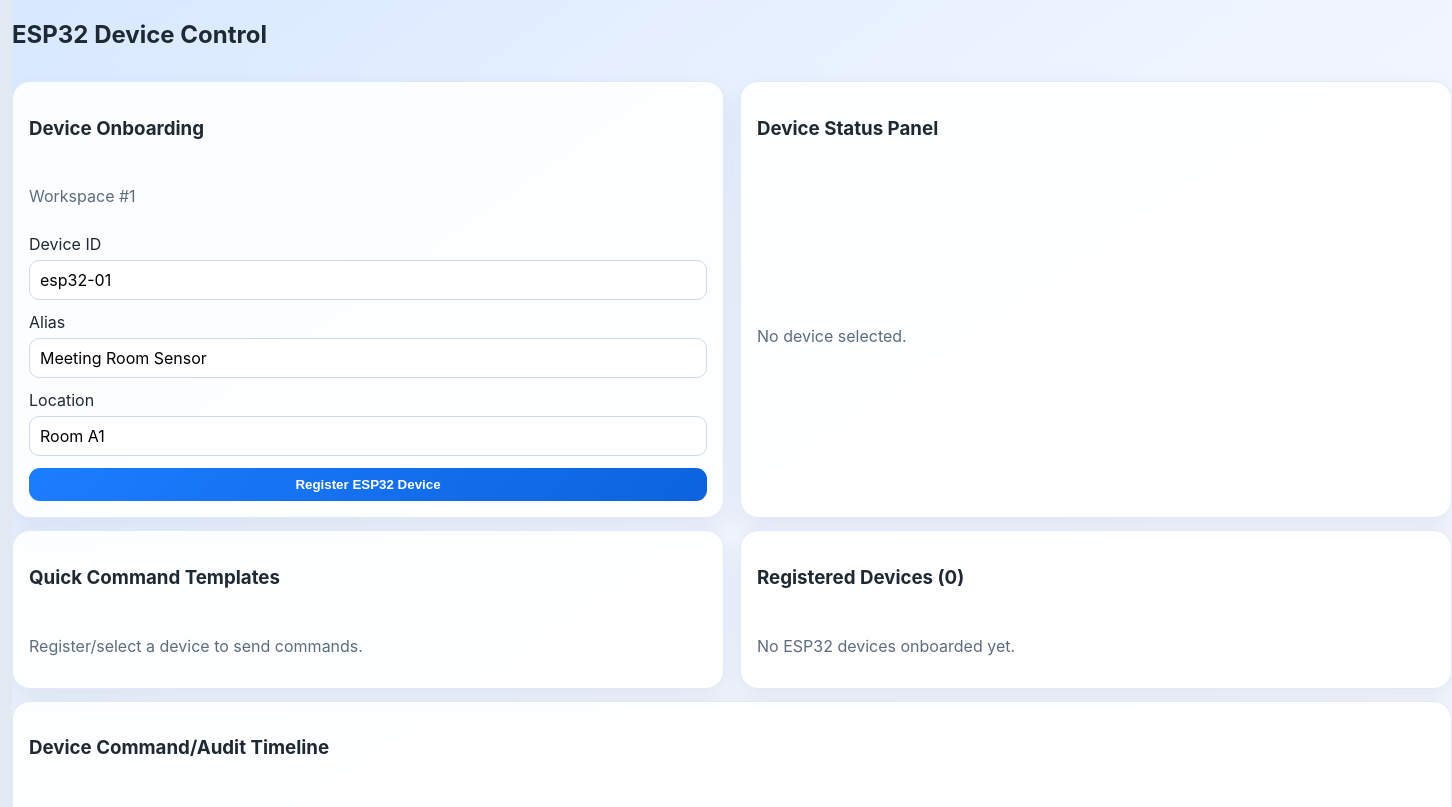
DevicesPage › registers a device and records onboarding audit
Click the button "Register ESP32 Device": click(368, 485) [29,468,707,501]
(page scrolled)
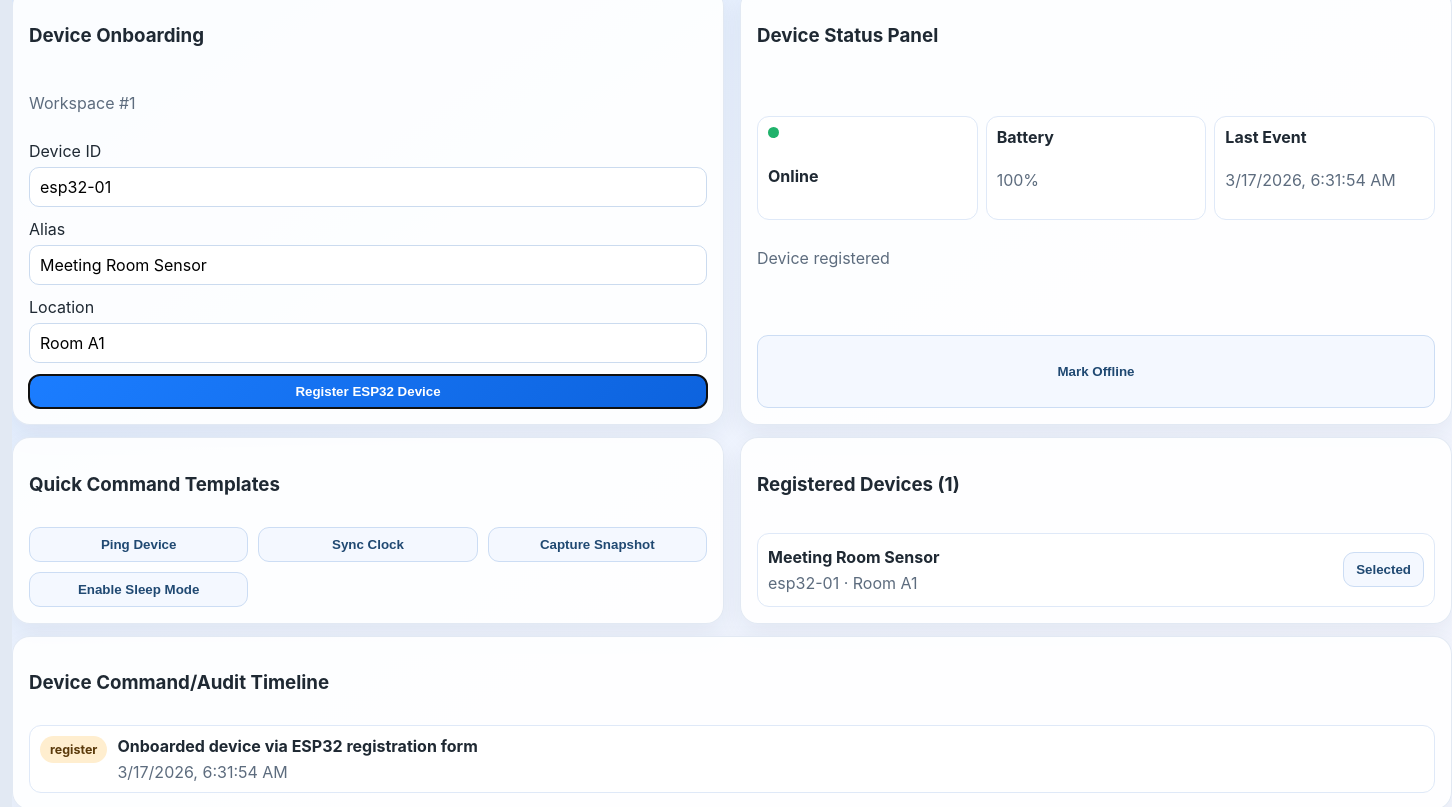
Expected: the heading "Registered Devices (1)" is shown, [757,473,960,496]
Expected: the text "Onboarded device via ESP32 registration form" is shown, [117,736,478,756]
